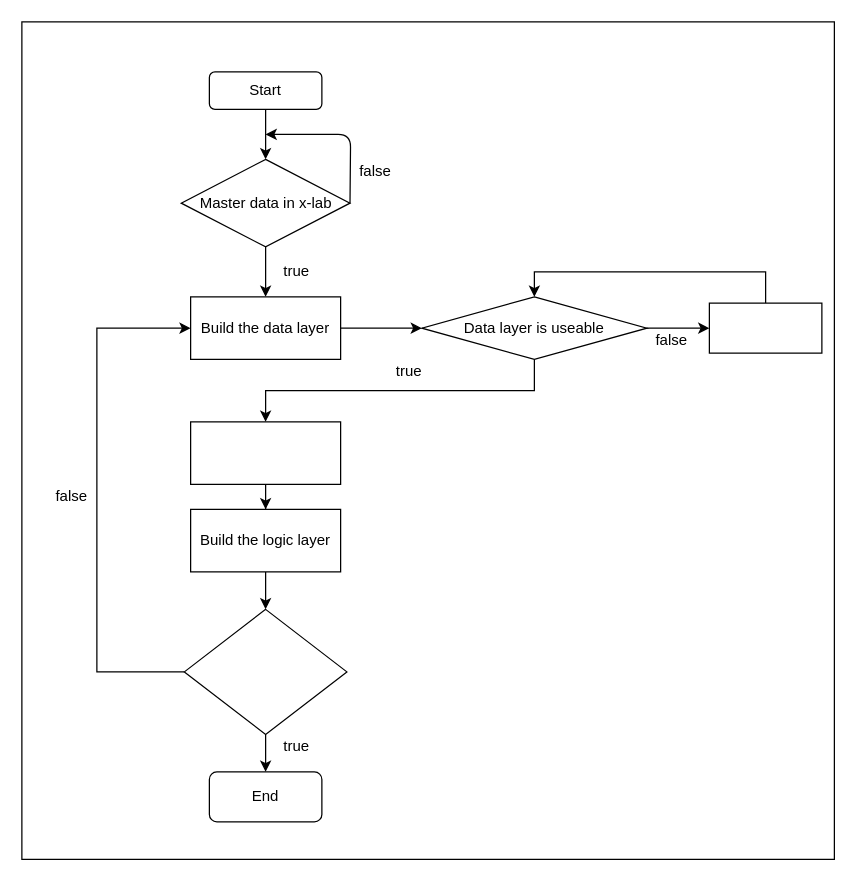
The diagram is 856 pixels wide and 881 high, and some of its shapes have lost their labels. The centre of each missing label's shape, as x and y in pixels:
Build the patter layer: pixel 265 452
Metadata layer contains all information of x-lab: pixel 265 671
Refactor data: pixel 765 327
